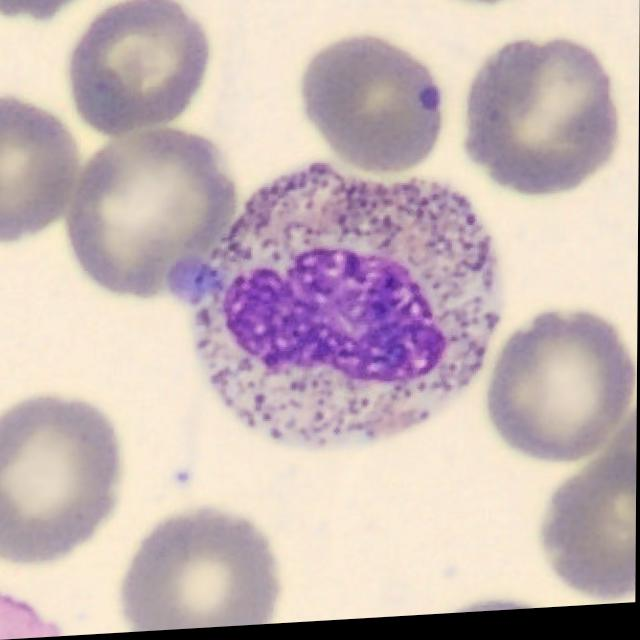Neutrofilo segmentado: (169, 165, 502, 457)
